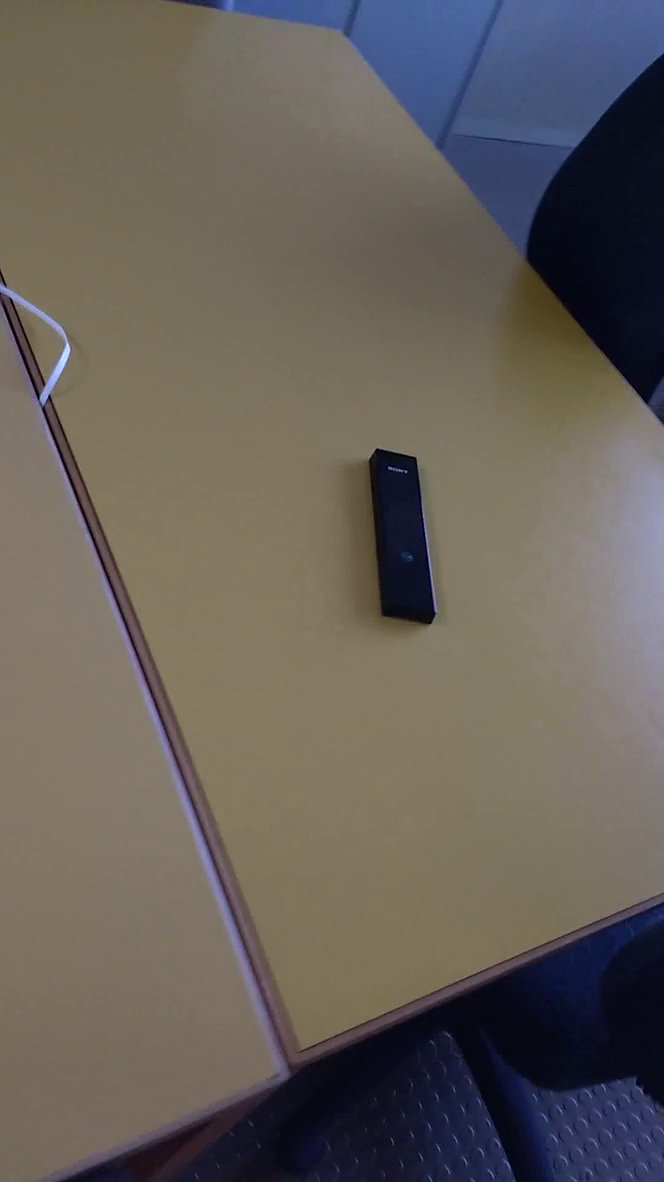remote: (348, 439, 453, 646)
